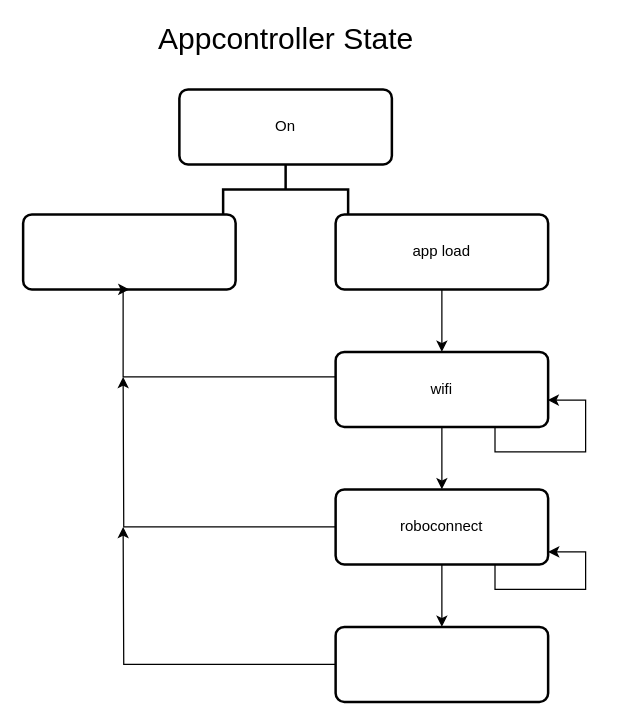
Some shapes in this 618 by 725 pixel diagram are drawn without their labels. The box of each missing label's shape, as (x1, y1, x2, y2) in pixels:
control: (334, 625, 549, 702)
exit: (21, 212, 236, 290)
